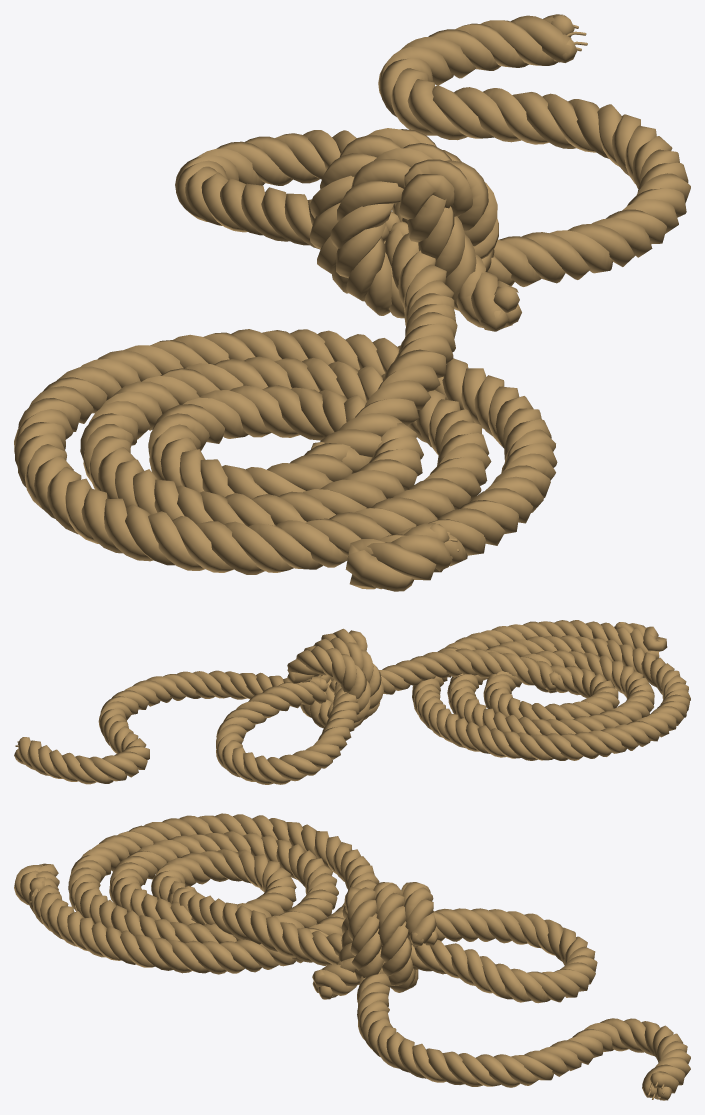
Rendered from rope.glb.
3 views of the same model, one above another, from view 1: azimuth 30°, elevation 25°; view 2: azimuth 150°, elevation 25°; view 3: azimuth 270°, elevation 25° (orthographic). The views are drawn at different scales.
Parts seen in each view (by area): view 1: chapter-3; view 2: chapter-3; view 3: chapter-3.
Boxes of the visible parts, bbox=[...] form: chapter-3: bbox=[14, 14, 690, 591]; chapter-3: bbox=[14, 620, 690, 784]; chapter-3: bbox=[14, 813, 690, 1100].
Bounding box in the file's own units: 1.89 × 0.342 × 2.
